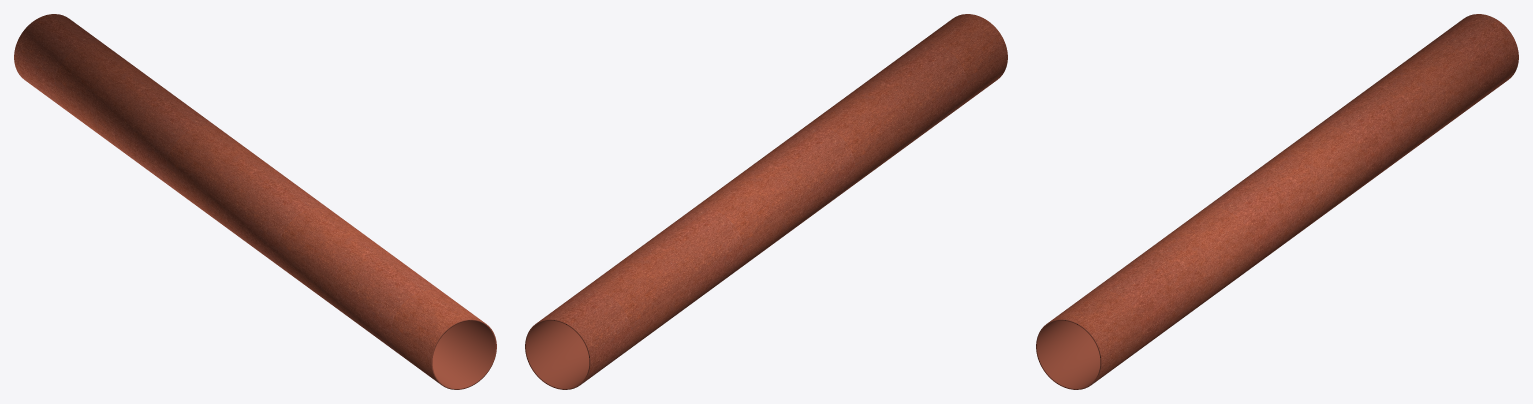
The model's file is nordstream3-rost1.glb.
3 renders of one model, left to right at view 1: azimuth 30°, elevation 25°; view 2: azimuth 150°, elevation 25°; view 3: azimuth 330°, elevation 25°, orthographic.
Parts seen in each view (by area): view 1: ring rost rohr; view 2: ring rost rohr; view 3: ring rost rohr.
Boxes of the visible parts, box(x1,y1,x2,y2) form: ring rost rohr: box(14, 14, 496, 389); ring rost rohr: box(525, 14, 1007, 389); ring rost rohr: box(1036, 14, 1518, 389).
Bounding box in the file's own units: 1.18 × 1.18 × 13.
1 material, 1 textured.
